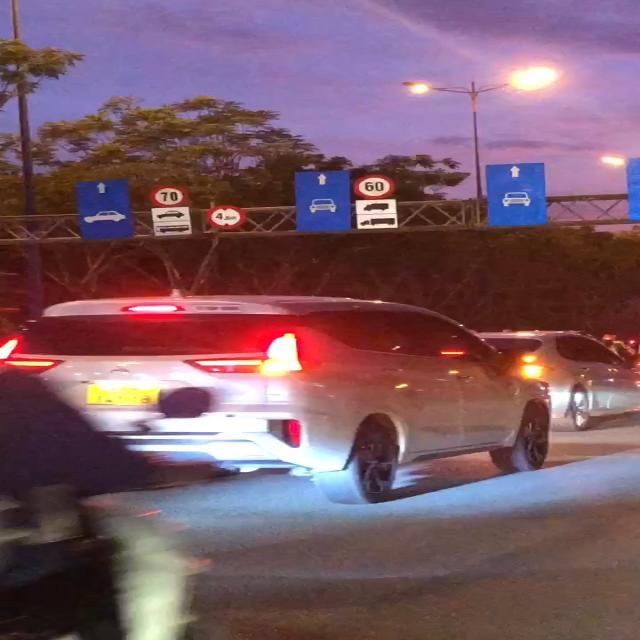Bien bao han che chieu cao: (207, 204, 244, 230)
Bien bao toc do toi da cho phep: (349, 171, 394, 197), (150, 184, 188, 210)
